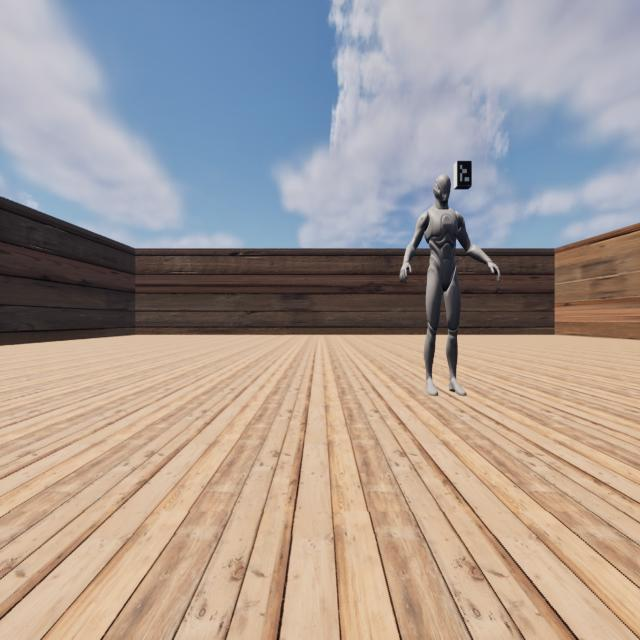aruco: (457, 161, 472, 186)
hip: (426, 266, 457, 279)
